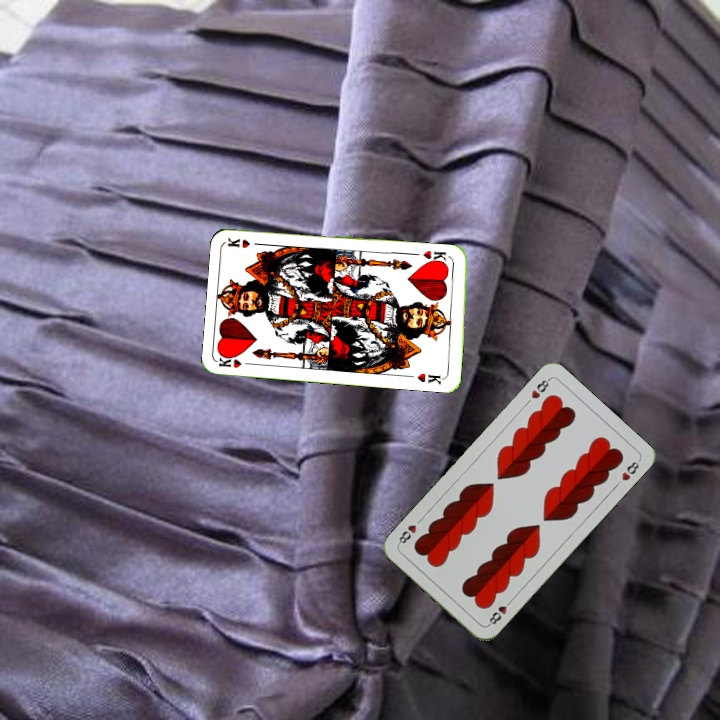H8: (484, 595, 515, 628), (527, 374, 553, 401)
HK: (216, 351, 257, 370), (419, 246, 454, 267)
